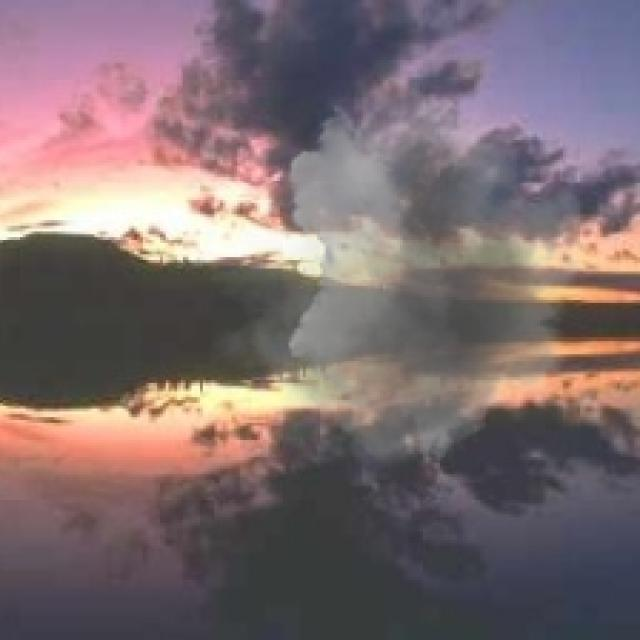smoke: (208, 91, 603, 483)
